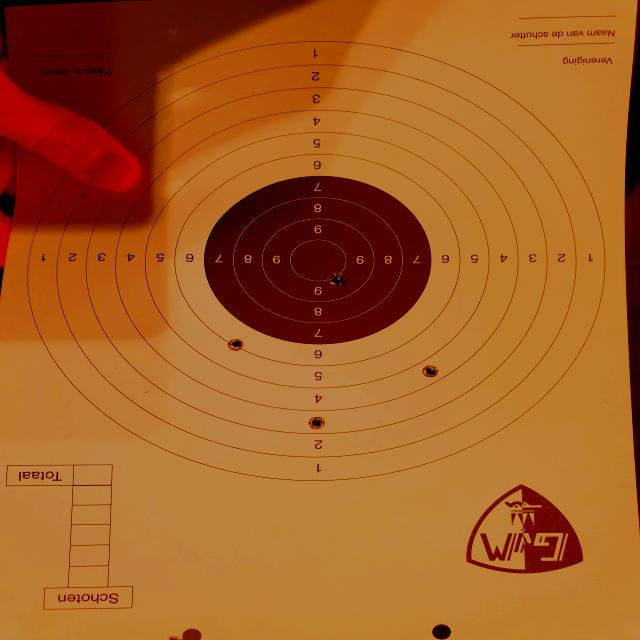0: (170, 635, 180, 640)
10: (325, 272, 347, 286)
3: (307, 416, 325, 432)
4: (421, 364, 441, 378)
6: (226, 338, 245, 353)
Target: (27, 39, 607, 482)
black_contour: (203, 177, 432, 346)
